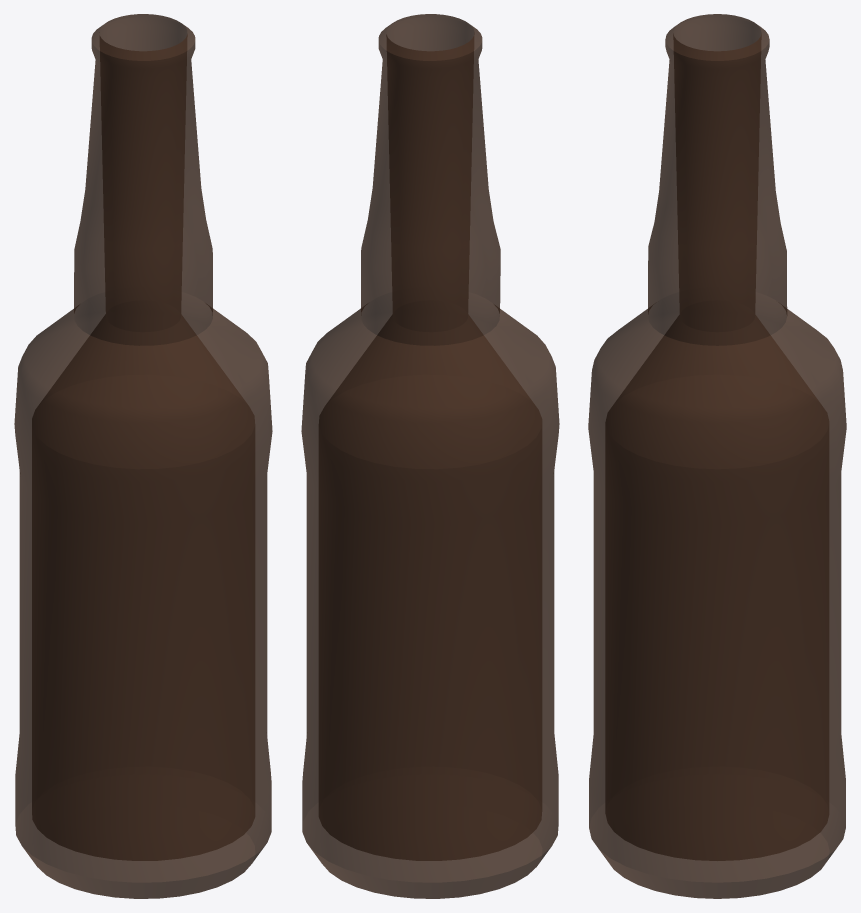
File: beerBottle.fbx
The picture shows the model from 3 angles, left to right: view 1: azimuth 30°, elevation 25°; view 2: azimuth 150°, elevation 25°; view 3: azimuth 270°, elevation 25°; orthographic projection.
Visible parts, largest first — view 1: Cylinder; view 2: Cylinder; view 3: Cylinder.
Part boxes in pixels (x1,y1,x2,y2): Cylinder: [14, 14, 272, 898]; Cylinder: [301, 14, 559, 898]; Cylinder: [588, 14, 846, 898].
Size of the model in its own units: 209 by 729 by 209.
